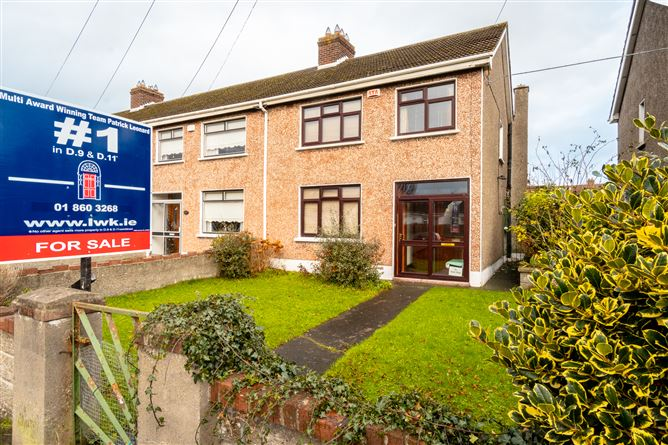property sign: (1, 82, 173, 264)
